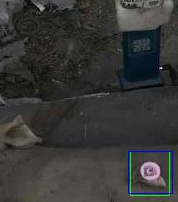text: (130, 151, 169, 195)
